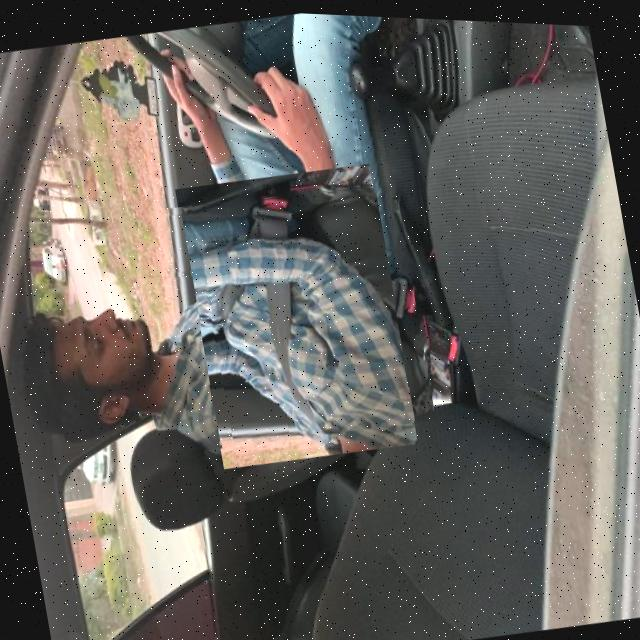seatbelt: (157, 167, 436, 457)
